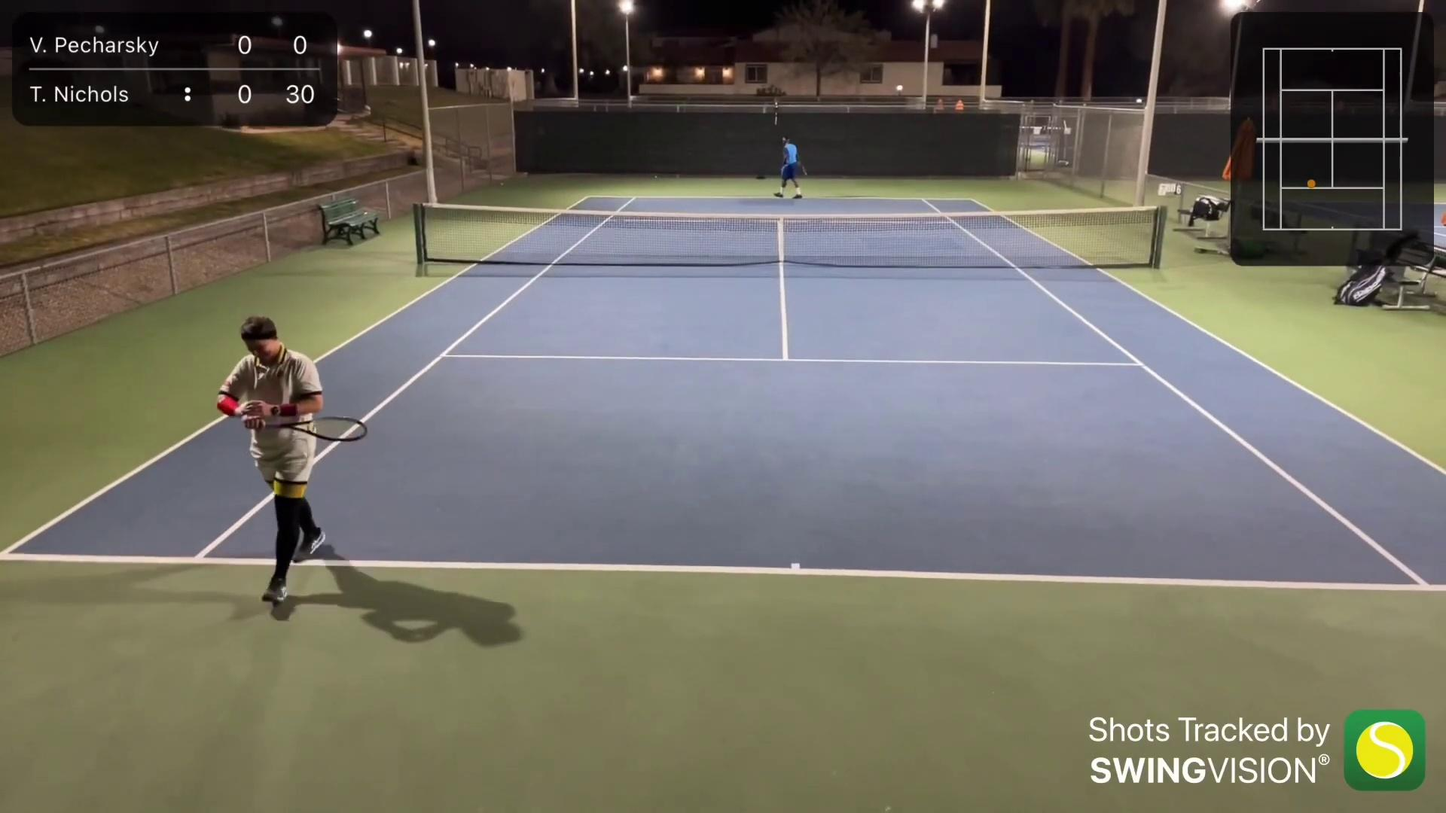ball: (498, 180, 506, 187), (653, 173, 659, 181), (430, 42, 435, 45)
